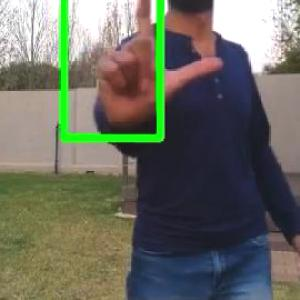land_hand: (91, 0, 227, 126)
